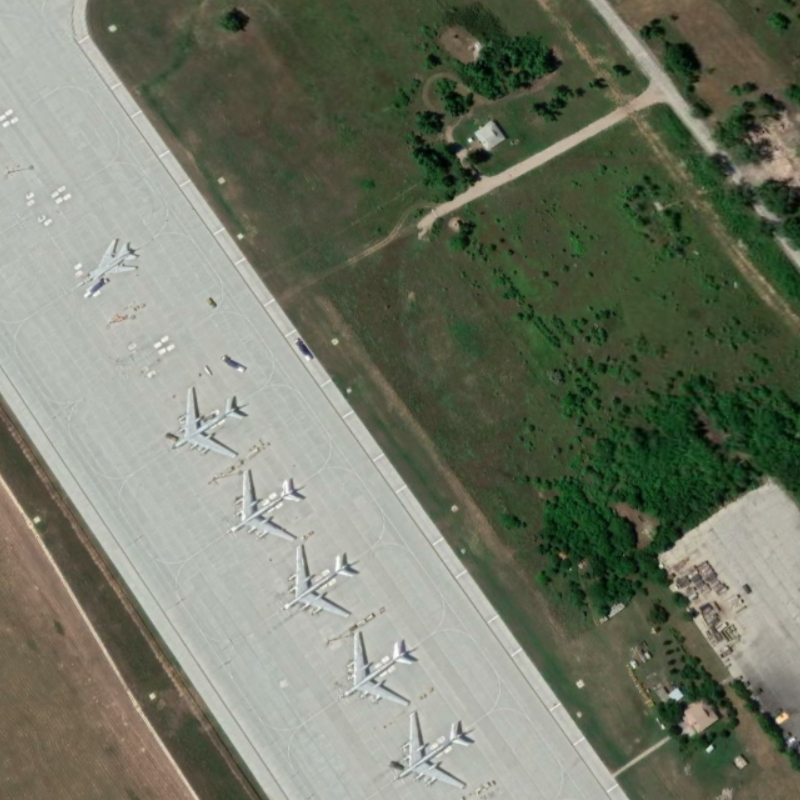A12: (73, 236, 141, 290)
A17: (391, 710, 476, 791), (337, 629, 417, 709), (278, 542, 359, 621), (224, 467, 306, 545), (168, 385, 249, 461)
